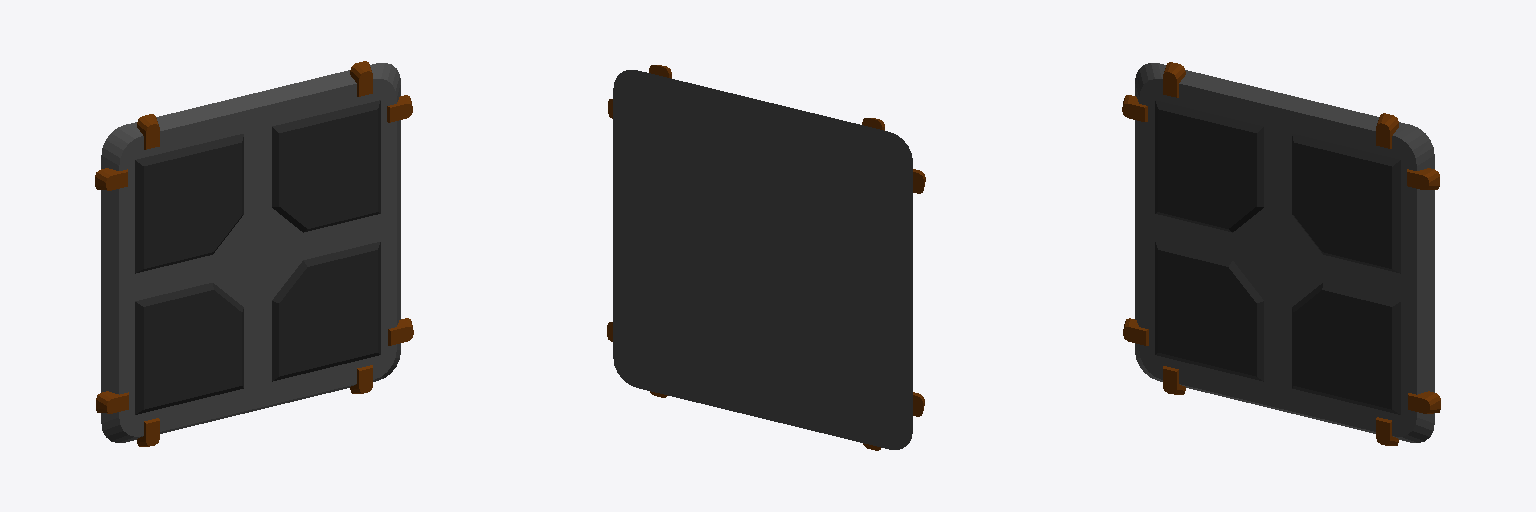
The model's file is Details_Plate_Details.obj.
3 views of the same model, side by side, from view 1: azimuth 30°, elevation 25°; view 2: azimuth 150°, elevation 25°; view 3: azimuth 330°, elevation 25° (orthographic).
Visible parts, largest first — view 1: Details_Plate_Details_Cube.047; view 2: Details_Plate_Details_Cube.047; view 3: Details_Plate_Details_Cube.047.
Boxes of the visible parts, box(x1,y1,x2,y2) form: Details_Plate_Details_Cube.047: box(95, 61, 413, 446); Details_Plate_Details_Cube.047: box(607, 65, 925, 450); Details_Plate_Details_Cube.047: box(1122, 62, 1440, 445).
Size of the model in its own units: 0.6199 by 0.6199 by 0.0321.